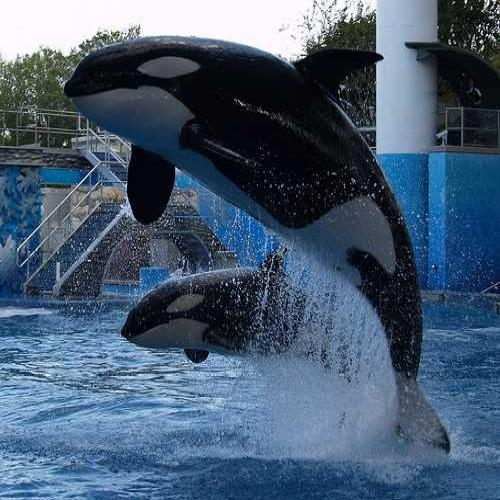killer_whale-endangered: (68, 16, 436, 364), (118, 236, 349, 397)
